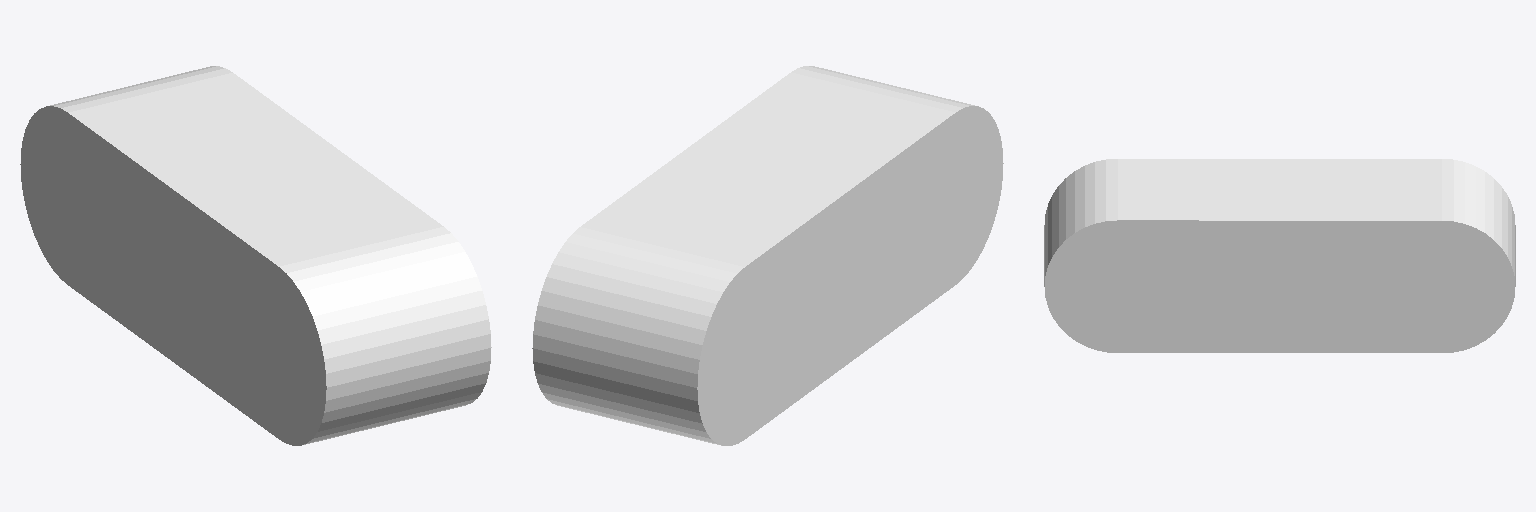
robot.urdf — flexivArm_pvt3:
<?xml version="1.0" ?>
<!-- ======================================================================= -->
<!-- |                           Flexiv 7DOFs Arm                          | -->
<!-- ======================================================================= -->
<robot name="flexivArm_pvt3">
  <!-- ============================ Link Configuration ===================== -->
  <link name="world"/>
  <!-- ============ base link =========== -->
  <link name="base">
    <inertial>
      <mass value="3.165192"/> 
      <origin rpy="0 0 0" xyz="-0.001426 0.001499 0.073871"/>
      <inertia ixx="0.013283" iyy="0.013341" izz="0.006907" ixy="0.000033" ixz="0.000242" iyz="-0.000264"/>
    </inertial>
    <visual>
      <origin rpy="0 0 0" xyz="0 0 0"/>
      <geometry>
        <mesh filename="graphics/link0_body.obj"/>
      </geometry>      
    </visual>  
    <collision>
       <origin xyz="0 0 0" rpy="0 0 0"/>
       <geometry>
         <mesh filename="graphics/link0_body.obj"/>
       </geometry>
    </collision>   
  </link>
  <!-- ============ link 1 ============= -->
  <link name="link1">
    <inertial>
      <mass value="3.463530"/> 
      <origin rpy="0 0 0" xyz="0.000139 0.006661 0.148657"/>
      <inertia ixx="0.025579" iyy="0.025107" izz="0.007014" ixy="-0.000029" ixz="0.000021"  iyz="0.001781" />
    </inertial>
    <visual>
      <origin rpy="0 0 0" xyz="0 0 0"/>
      <geometry>
        <mesh filename="graphics/link1_assemble.obj"/>
      </geometry>      
    </visual>    
    <collision>
       <origin xyz="0 0 0" rpy="0 0 0"/>
       <geometry>
         <mesh filename="graphics/link1_assemble.obj"/>
       </geometry>
    </collision>  
  </link>
  <!-- ============ link 2 ============= -->
  <link name="link2">
    <inertial>
      <mass value="2.461088"/> 
      <origin rpy="0 0 0" xyz="0.000124 0.035809 0.100437"/>
      <inertia ixx="0.021017" iyy="0.021754" izz="0.003223" ixy="-0.000004" ixz="0.000003"  iyz="-0.000107" />
    </inertial>
    <visual>
      <origin rpy="0 0 0" xyz="0 0 0"/>
      <geometry>
        <mesh filename="graphics/link2_assemble.obj"/>
      </geometry>      
    </visual>  
    <collision>
       <origin xyz="0 0 0" rpy="0 0 0"/>
       <geometry>
         <mesh filename="graphics/link2_assemble.obj"/>
       </geometry>
    </collision>   
  </link>
  <!-- ============ link 3 ============= -->
  <link name="link3">
    <inertial>
      <mass value="2.114110"/> 
      <origin rpy="0 0 0" xyz="-0.011086 -0.005253 0.131548"/>   
      <inertia ixx="0.012226" iyy="0.012012" izz="0.003112" ixy="0.000137" ixz="-0.001256"  iyz="-0.000899" />
    </inertial>
    <visual>
      <origin rpy="0 0 0" xyz="0 0 0"/>
      <geometry>
        <mesh filename="graphics/link3_assemble.obj"/>
      </geometry>      
    </visual>  
    <collision>
       <origin xyz="0 0 0" rpy="0 0 0"/>
       <geometry>
         <mesh filename="graphics/link3_assemble.obj"/>
       </geometry>
    </collision>      
  </link>
  <!-- ============ link 4 ============= -->
  <link name="link4">
    <inertial>
      <mass value="2.114110"/> 
      <origin rpy="0 0 0" xyz="0.013775 -0.028770 0.107932"/>
      <inertia ixx="0.015236" iyy="0.015646" izz="0.002410" ixy="0.000052" ixz="0.001263"  iyz="0.000604" />
    </inertial>
    <visual>
      <origin rpy="0 0 0" xyz="0 0 0"/>
      <geometry>
        <mesh filename="graphics/link4_assemble.obj"/>
      </geometry>      
    </visual>   
    <collision>
       <origin xyz="0 0 0" rpy="0 0 0"/>
       <geometry>
         <mesh filename="graphics/link4_assemble.obj"/>
       </geometry>
    </collision>  
  </link>
  <!-- ============ link 5 ============= -->
  <link name="link5">
    <inertial>
      <mass value="2.007245"/> 
      <origin rpy="0 0 0" xyz="0.000135 0.005594 0.132106"/>
      <inertia ixx="0.012881" iyy="0.012487" izz="0.003005" ixy="-0.000019" ixz="0.000025"  iyz="0.000903" />
    </inertial>
    <visual>
      <origin rpy="0 0 0" xyz="0 0 0"/>
      <geometry>
        <mesh filename="graphics/link5_assemble.obj"/>
      </geometry>      
    </visual>    
    <collision>
       <origin xyz="0 0 0" rpy="0 0 0"/>
       <geometry>
         <mesh filename="graphics/link5_assemble.obj"/>
       </geometry>
    </collision>
  </link>
  <!-- ============ link 6 ============= -->
  <link name="link6">
    <inertial>
      <mass value="1.953128"/> 
      <origin rpy="0 0 0" xyz="-0.009555 0.056435 0.071550"/>
      <inertia ixx="0.007438" iyy="0.007679" izz="0.003232" ixy="-0.000278" ixz="-0.000730"  iyz="0.001580" />
    </inertial>
    <visual>
      <origin rpy="0 0 0" xyz="0 0 0"/>
      <geometry>
        <mesh filename="graphics/link6_assemble.obj"/>
      </geometry>      
    </visual>
    <collision>
       <origin xyz="0 0 0" rpy="0 0 0"/>
       <geometry>
         <mesh filename="graphics/link6_assemble.obj"/>
       </geometry>
    </collision>    
  </link>

  <!-- ============ link 7 ============= -->
  <link name="link7">
    <inertial>
      <mass value="0.789282"/> 
      <origin rpy="0 0 0" xyz="-0.028033 -0.000597 -0.000008"/>
      <inertia ixx="0.000980" iyy="0.001060" izz="0.001033" ixy="0.000006" ixz="0.000001"  iyz="-0.000002" />
    </inertial>
    <visual>
      <origin rpy="0 0 0" xyz="0 0 0"/>
      <geometry>
        <mesh filename="graphics/link7_assemble.obj"/>
      </geometry>      
      <material name="Cyan">
        <color rgba="1.0 1.0 1.0 1.0"/>
      </material>
    </visual> 
    <collision>
       <origin xyz="0 0 0" rpy="0 0 0"/>
       <geometry>
         <mesh filename="graphics/link7_assemble.obj"/>
       </geometry>
    </collision>    
  </link>

  <!-- ============ link 7 ============= -->
  <link name="rs">
    <inertial>
      <mass value="0.789282"/> 
      <origin rpy="0 0 0" xyz="-0.028033 -0.000597 -0.000008"/>
      <inertia ixx="0.000980" iyy="0.001060" izz="0.001033" ixy="0.000006" ixz="0.000001"  iyz="-0.000002" />
    </inertial>
    <visual>
      <origin rpy="0 0 0" xyz="0 0 0"/>
      <geometry>
        <mesh filename="graphics/realsense.obj"/>
      </geometry>      
      <material name="Cyan">
        <color rgba="1.0 1.0 1.0 1.0"/>
      </material>
    </visual> 
    <collision>
       <origin xyz="0 0 0" rpy="0 0 0"/>
       <geometry>
         <mesh filename="graphics/realsense.obj"/>
       </geometry>
    </collision>    
  </link>
  
  <!-- ========================= Joint Configuration ======================= -->
  <!-- ============ joint 0 =============== -->
  <joint name="joint0" type="fixed">
    <origin rpy="0 0 -3.1415927" xyz="0 0 0.0"/>
    <parent link="world"/>
    <child link="base"/>
  </joint>
  
  <!-- ============ joint 1 =============== -->
  <joint name="joint1" type="revolute">
    <origin rpy="0 0 0" xyz="0.0 0.0 0.135"/>
    <axis xyz="0 0 1"/>
    <limit effort="123" lower="-2.87979" upper="2.87979" velocity="2.61799"/>
    <dynamics damping="0.1"/>
    <parent link="base"/>
    <child link="link1"/>
  </joint>
 
  <!-- ============ joint 2 =============== -->
  <joint name="joint2" type="revolute">
    <origin rpy="0 0 0" xyz="0.0 0.03 0.210"/>
    <axis xyz="0 1 0"/>
    <limit effort="123" lower="-2.16421" upper="2.16421" velocity="2.61799"/>
    <dynamics damping="0.1"/>
    <parent link="link1"/>
    <child link="link2"/>
  </joint>

  <!-- ============ joint 3 =============== -->
  <joint name="joint3" type="revolute">
    <origin rpy="0 0 0" xyz="0.0 0.035  0.205"/>
    <axis xyz="0 0 1"/>
    <limit effort="64" lower="-3.05433" upper="3.05433" velocity="2.61799"/>
    <dynamics damping="0.1"/>
    <parent link="link2"/>
    <child link="link3"/>
  </joint>

  <!-- ============ joint 4 =============== -->
  <joint name="joint4" type="revolute">
    <origin rpy="0 0 0" xyz="-0.02 -0.03 0.19"/>
    <axis xyz="0 1 0"/>
    <limit effort="64" lower="-2.79253" upper="1.95477" velocity="2.61799"/>
    <dynamics damping="0.1"/>
    <parent link="link3"/>
    <child link="link4"/>
  </joint>

  <!-- ============ joint 5 =============== -->
  <joint name="joint5" type="revolute">
    <origin rpy="0 0 0" xyz="0.02 -0.025 0.195"/>
    <axis xyz="0 0 1"/>
    <limit effort="39" lower="-3.05433" upper="3.05433" velocity="5.23599"/>
    <dynamics damping="0.1"/>
    <parent link="link4"/>
    <child link="link5"/>
  </joint>

  <!-- ============ joint 6 =============== -->
  <joint name="joint6" type="revolute">
    <origin rpy="0 0 0" xyz="0.0 0.03 0.19"/>
    <axis xyz="0 1 0"/>
    <limit effort="39" lower="-1.48353" upper="4.62512" velocity="5.23599"/>
    <dynamics damping="0.1"/>
    <parent link="link5"/>
    <child link="link6"/>
  </joint>

  <!-- ============ joint 7 =============== -->
  <joint name="joint7" type="revolute">
    <origin rpy="0 -1.5707963 0" xyz="-0.055 0.070 0.11"/>
    <axis xyz="0 0 1"/>
    <limit effort="39" lower="-3.05433" upper="3.05433" velocity="5.23599"/>
    <dynamics damping="0.1"/>
    <parent link="link6"/>
    <child link="link7"/>
  </joint> 
  <!-- ============ joint 7 =============== -->
  <joint name="joint8" type="fixed">
    <origin rpy="0 0 1.57" xyz="0.09 0.02 0.04"/>
    <parent link="link7"/>
    <child link="rs"/>
  </joint>
</robot>

--- Facts derived from the render (not from the file) ---
3 views of the same robot in one strip: view 1: azimuth 30°, elevation 25°; view 2: azimuth 150°, elevation 25°; view 3: azimuth 270°, elevation 25° (orthographic).
Model flexivArm_pvt3 with 10 links and 9 joints (7 revolute, 2 fixed), rooted at world, posed all joints at 0.
Visible links, largest first — view 1: rs; view 2: rs; view 3: rs.
Link boxes in pixels (bbox=[...]): rs: bbox=[20, 66, 491, 445]; rs: bbox=[532, 66, 1003, 445]; rs: bbox=[1044, 159, 1515, 352].
Bounding box of the posed robot: 0.028 × 0.09 × 0.028 m (x, y, z).
Meshes: 9 distinct files referenced, 1 mesh visuals loaded (1 OBJ); not drawn: 8 (reference not matched to a file when rendering).